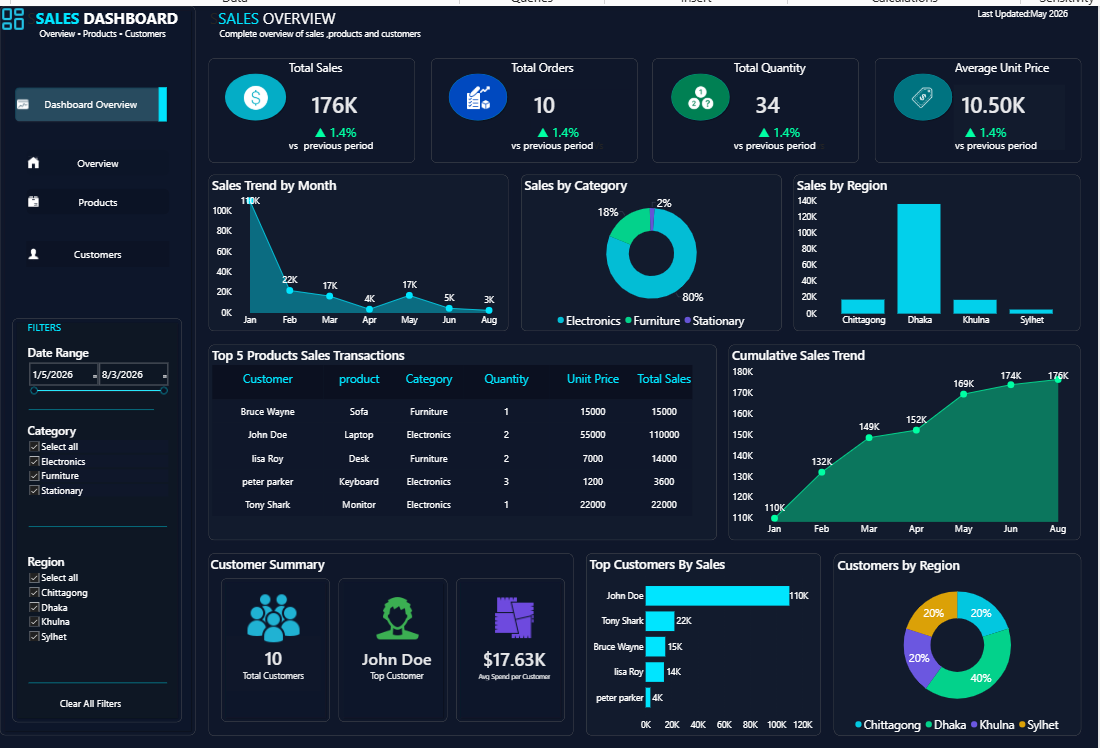

This screenshot's page, from the dashboard's own definition file:
{"tool":"powerbi","page":{"name":"Dashboard","canvas":[4050,2750],"ordinal":0},"visuals":[{"type":"shape","box":[0,0,720,2688],"z":0},{"type":"shape","title":"Total Sales","box":[768,192,760.1,384],"z":0,"group":"g1"},{"type":"textbox","box":[96,0,576,192],"z":1000},{"type":"cardVisual","fields":{"Data":["Sum(Data.Total Sales)"]},"box":[1118.8,288,409.3,240],"z":1000,"group":"g1"},{"type":"image","box":[0,0,96,96],"z":2000},{"type":"shape","title":"Total Orders","box":[1586.6,192,760.1,384],"z":2000,"group":"g1"},{"type":"shape","title":"Total Quantity","box":[2405.2,192,760.1,384],"z":3000,"group":"g1"},{"type":"actionButton","box":[48,288,576,144],"z":3000},{"type":"shape","box":[3223.9,192,760.1,384],"z":4000,"group":"g1"},{"type":"shape","box":[576,288,48,144],"z":4000},{"type":"cardVisual","fields":{"Data":["CountNonNull(Data.Order ID)"]},"box":[1937.5,288,409.3,240],"z":5000,"group":"g1"},{"type":"actionButton","box":[96,528,528,96],"z":5000},{"type":"cardVisual","fields":{"Data":["Sum(Data.Quantity)"]},"box":[2756.1,288,409.3,240],"z":6000,"group":"g1"},{"type":"actionButton","box":[96,672,528,96],"z":6000},{"type":"cardVisual","fields":{"Data":["Avg(Data.Uniit Price)"]},"box":[3516.2,288,409.3,240],"z":7000,"group":"g1"},{"type":"actionButton","box":[96,864,528,96],"z":7000},{"type":"shape","box":[816.7,240,243.6,192],"z":8000,"group":"g1"},{"type":"shape","box":[48,1152,624,1488],"z":8000},{"type":"shape","box":[1645.1,240,233.9,192],"z":9000,"group":"g1"},{"type":"textbox","box":[96,1152,336,144],"z":9000},{"type":"shape","box":[2463.7,240,233.9,192],"z":10000,"group":"g1"},{"type":"slicer","title":"Date Range","fields":{"Values":["Data.Date"]},"box":[96,1248,528,288],"z":10000},{"type":"shape","box":[3282.3,240,233.9,192],"z":11000,"group":"g1"},{"type":"slicer","title":"Category","fields":{"Values":["Data.Category"]},"box":[96,1536,528,432],"z":11000},{"type":"textbox","box":[1060.4,192,467.8,144],"z":12000,"group":"g1"},{"type":"slicer","title":"Region","fields":{"Values":["Data.Region"]},"box":[96,2016,528,384],"z":12000},{"type":"textbox","box":[1879,192,409.3,144],"z":13000,"group":"g1"},{"type":"actionButton","box":[48,2496,576,144],"z":13000},{"type":"textbox","box":[2697.6,192,467.8,144],"z":14000,"group":"g1"},{"type":"shape","box":[96,2448,528,96],"z":14000},{"type":"textbox","box":[3516.2,192,467.8,96],"z":15000,"group":"g1"},{"type":"shape","box":[96,1392,480,192],"z":15000},{"type":"image","box":[884.9,288,116.9,96],"z":16000,"group":"g1"},{"type":"shape","box":[96,1872,528,96],"z":16000},{"type":"textbox","box":[3600,0,384,288],"z":17000},{"type":"image","box":[1703.6,288,116.9,96],"z":17000,"group":"g1"},{"type":"textbox","box":[768,0,816,240],"z":18000},{"type":"image","box":[2522.2,288,116.9,96],"z":18000,"group":"g1"},{"type":"group","id":"g1","title":"Group 1","box":[768,192,3216,432],"z":19000},{"type":"image","box":[3340.8,288,116.9,96],"z":19000,"group":"g1"},{"type":"textbox","box":[1060.4,480,467.8,144],"z":20000,"group":"g1"},{"type":"lineChart","title":"Sales Trend by Month","fields":{"Y":["Sum(Data.Total Sales)"],"Category":["Data.Month"]},"box":[768,624,1104,576],"z":20000},{"type":"textbox","box":[1879,480,467.8,96],"z":21000,"group":"g1"},{"type":"donutChart","title":" Sales by Category","fields":{"Y":["Sum(Data.Total Sales)"],"Category":["Data.Category"]},"box":[1920,624,960,576],"z":21000},{"type":"textbox","box":[2697.6,480,526.3,96],"z":22000,"group":"g1"},{"type":"clusteredColumnChart","title":" Sales by Region","fields":{"Category":["Data.Region"],"Y":["Sum(Data.Total Sales)"]},"box":[2928,624,1056,576],"z":22000},{"type":"textbox","box":[3516.2,480,467.8,96],"z":23000,"group":"g1"},{"type":"tableEx","title":"Top 5 Products Sales Transactions","fields":{"Values":["Data.Customer Name","Data.product","Data.Category","Sum(Data.Quantity)","Sum(Data.Uniit Price)","Sum(Data.Total Sales)"]},"box":[768,1248,1872,720],"z":23000},{"type":"areaChart","title":"Cumulative Sales Trend","fields":{"Category":["Data.Month"],"Y":["Data.Cumulative Sales"]},"box":[2688,1248,1296,720],"z":24000},{"type":"shape","title":"Customer Summary","box":[768,2016,1344,672],"z":25000},{"type":"shape","box":[816,2112,400,528],"z":26000},{"type":"shape","box":[1248,2112,400,528],"z":27000},{"type":"shape","box":[1680,2112,400,528],"z":28000},{"type":"cardVisual","fields":{"Data":["Data.Total Customers"]},"box":[816,2304,384,240],"z":29000},{"type":"cardVisual","fields":{"Data":["Data.Top Customer"]},"box":[1296,2256,336,336],"z":30000},{"type":"cardVisual","fields":{"Data":["Data.Avg Spend per Customer"]},"box":[1728,2304,336,240],"z":31000},{"type":"image","box":[912,2160,192,192],"z":32000},{"type":"image","box":[1344,2160,240,192],"z":33000},{"type":"image","box":[1776,2160,240,192],"z":34000},{"type":"clusteredBarChart","title":"Top Customers By Sales","fields":{"Y":["Sum(Data.Total Sales)"],"Category":["Data.Customer Name"]},"box":[2160,2016,865,670],"z":35000},{"type":"donutChart","title":" Customers by Region","fields":{"Y":["Data.Total Customers"],"Series":["Data.Region"]},"box":[3072,2016,912,672],"z":36000}]}

Visuals, with their boxes in screenshot pixels (x1, y1, x2, y2):
shape: {"left": 66, "top": 0, "right": 252, "bottom": 649}
"Total Sales" shape: {"left": 264, "top": 4, "right": 461, "bottom": 103}
textbox: {"left": 91, "top": 0, "right": 240, "bottom": 4}
cardVisual - Sum(Data.Total Sales): {"left": 355, "top": 29, "right": 461, "bottom": 91}
"Total Orders" shape: {"left": 476, "top": 4, "right": 672, "bottom": 103}
"Total Quantity" shape: {"left": 687, "top": 4, "right": 884, "bottom": 103}
actionButton: {"left": 78, "top": 29, "right": 227, "bottom": 66}
shape: {"left": 899, "top": 4, "right": 1095, "bottom": 103}
shape: {"left": 215, "top": 29, "right": 227, "bottom": 66}
cardVisual - CountNonNull(Data.Order ID): {"left": 566, "top": 29, "right": 672, "bottom": 91}
actionButton: {"left": 91, "top": 91, "right": 227, "bottom": 115}
cardVisual - Sum(Data.Quantity): {"left": 778, "top": 29, "right": 884, "bottom": 91}
actionButton: {"left": 91, "top": 128, "right": 227, "bottom": 153}
cardVisual - Avg(Data.Uniit Price): {"left": 974, "top": 29, "right": 1080, "bottom": 91}
actionButton: {"left": 91, "top": 177, "right": 227, "bottom": 202}
shape: {"left": 277, "top": 16, "right": 340, "bottom": 66}
shape: {"left": 78, "top": 252, "right": 240, "bottom": 636}
shape: {"left": 491, "top": 16, "right": 551, "bottom": 66}
textbox: {"left": 91, "top": 252, "right": 177, "bottom": 289}
shape: {"left": 702, "top": 16, "right": 763, "bottom": 66}
"Date Range" slicer: {"left": 91, "top": 277, "right": 227, "bottom": 351}
shape: {"left": 914, "top": 16, "right": 974, "bottom": 66}
"Category" slicer: {"left": 91, "top": 351, "right": 227, "bottom": 463}
textbox: {"left": 340, "top": 4, "right": 461, "bottom": 41}
"Region" slicer: {"left": 91, "top": 475, "right": 227, "bottom": 574}
textbox: {"left": 551, "top": 4, "right": 657, "bottom": 41}
actionButton: {"left": 78, "top": 599, "right": 227, "bottom": 636}
textbox: {"left": 763, "top": 4, "right": 884, "bottom": 41}
shape: {"left": 91, "top": 587, "right": 227, "bottom": 611}
textbox: {"left": 974, "top": 4, "right": 1095, "bottom": 29}
shape: {"left": 91, "top": 314, "right": 215, "bottom": 363}
image: {"left": 295, "top": 29, "right": 325, "bottom": 53}
shape: {"left": 91, "top": 438, "right": 227, "bottom": 463}
textbox: {"left": 996, "top": 0, "right": 1095, "bottom": 29}
image: {"left": 506, "top": 29, "right": 536, "bottom": 53}
textbox: {"left": 264, "top": 0, "right": 475, "bottom": 16}
image: {"left": 718, "top": 29, "right": 748, "bottom": 53}
"Group 1" group: {"left": 264, "top": 4, "right": 1095, "bottom": 115}
image: {"left": 929, "top": 29, "right": 959, "bottom": 53}
textbox: {"left": 340, "top": 78, "right": 461, "bottom": 115}
"Sales Trend by Month" lineChart: {"left": 264, "top": 115, "right": 550, "bottom": 264}
textbox: {"left": 551, "top": 78, "right": 672, "bottom": 103}
" Sales by Category" donutChart: {"left": 562, "top": 115, "right": 810, "bottom": 264}
textbox: {"left": 763, "top": 78, "right": 899, "bottom": 103}
" Sales by Region" clusteredColumnChart: {"left": 822, "top": 115, "right": 1095, "bottom": 264}
textbox: {"left": 974, "top": 78, "right": 1095, "bottom": 103}
"Top 5 Products Sales Transactions" tableEx: {"left": 264, "top": 277, "right": 748, "bottom": 463}
"Cumulative Sales Trend" areaChart: {"left": 760, "top": 277, "right": 1095, "bottom": 463}
"Customer Summary" shape: {"left": 264, "top": 475, "right": 612, "bottom": 649}
shape: {"left": 277, "top": 500, "right": 380, "bottom": 636}
shape: {"left": 388, "top": 500, "right": 492, "bottom": 636}
shape: {"left": 500, "top": 500, "right": 603, "bottom": 636}
cardVisual - Data.Total Customers: {"left": 277, "top": 549, "right": 376, "bottom": 611}
cardVisual - Data.Top Customer: {"left": 401, "top": 537, "right": 488, "bottom": 624}
cardVisual - Data.Avg Spend per Customer: {"left": 512, "top": 549, "right": 599, "bottom": 611}
image: {"left": 302, "top": 512, "right": 351, "bottom": 562}
image: {"left": 413, "top": 512, "right": 475, "bottom": 562}
image: {"left": 525, "top": 512, "right": 587, "bottom": 562}
"Top Customers By Sales" clusteredBarChart: {"left": 624, "top": 475, "right": 847, "bottom": 648}
" Customers by Region" donutChart: {"left": 860, "top": 475, "right": 1095, "bottom": 649}
